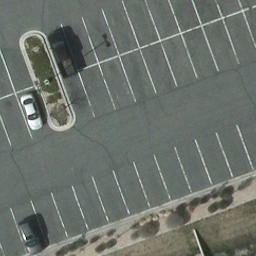car: (16, 220, 48, 255), (17, 94, 43, 132)
